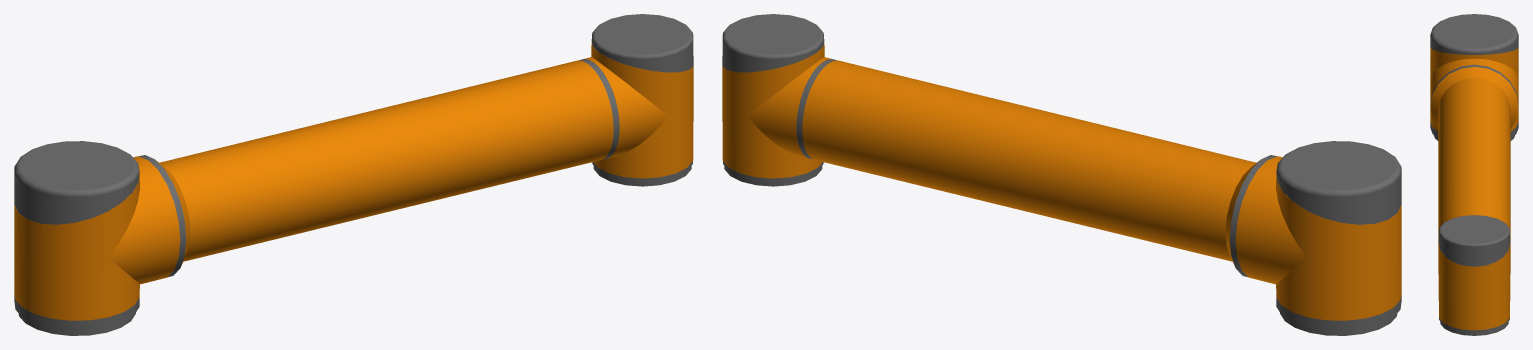
The picture shows the model from 3 angles, left to right: view 1: azimuth 30°, elevation 25°; view 2: azimuth 150°, elevation 25°; view 3: azimuth 270°, elevation 25°; orthographic projection. The views are drawn at different scales.
Parts seen in each view (by area): view 1: NONE; view 2: NONE; view 3: NONE.
Part boxes in pixels (bbox=[...]): NONE: bbox=[14, 14, 693, 335]; NONE: bbox=[722, 14, 1401, 335]; NONE: bbox=[1430, 14, 1518, 335].
Bounding box in the file's own units: 1.12 × 0.184 × 0.234.
